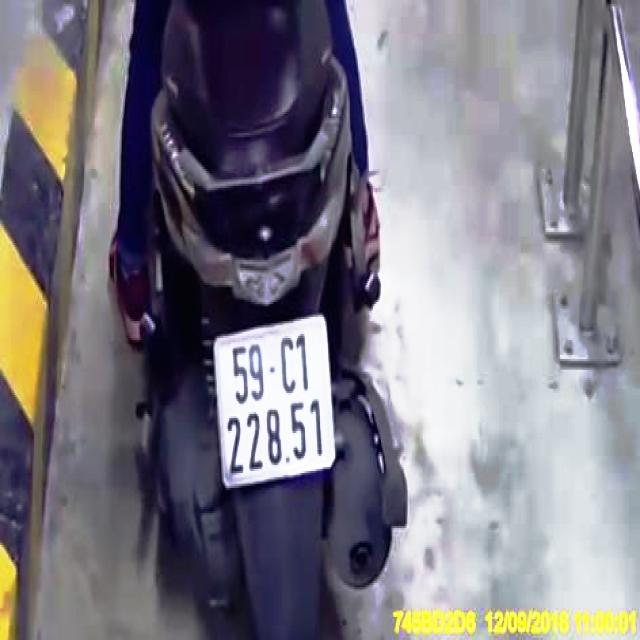license_plate: (218, 322, 334, 483)
